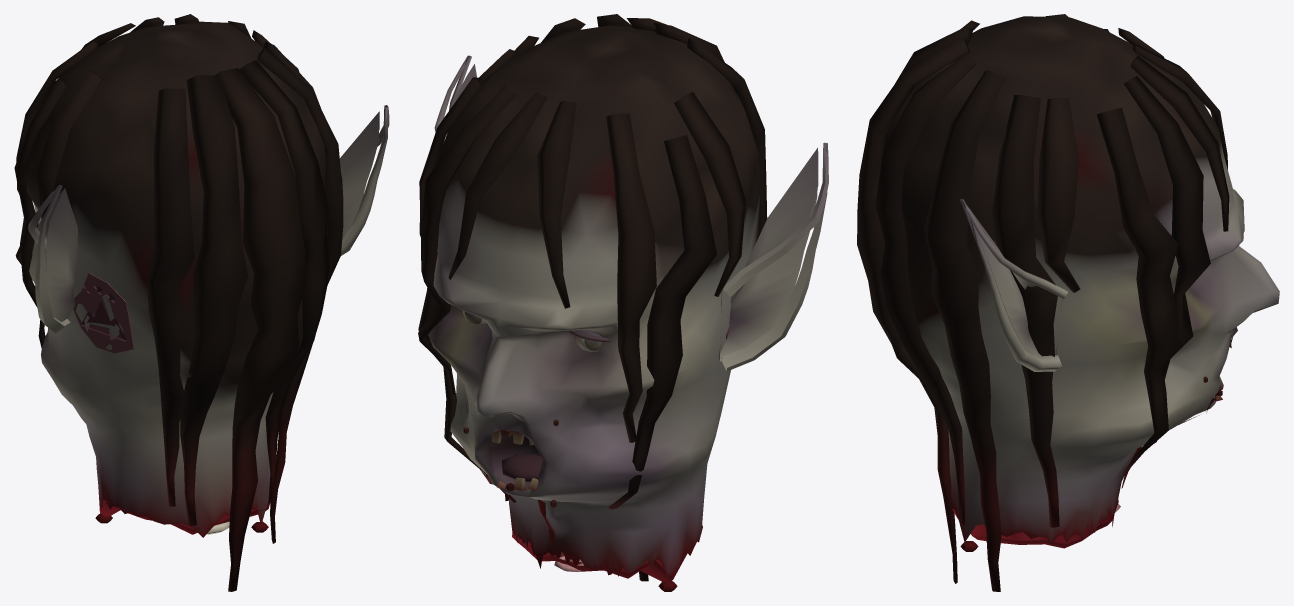
Rendered from head_severed.glb.
3 views of the same model, side by side, from view 1: azimuth 30°, elevation 25°; view 2: azimuth 150°, elevation 25°; view 3: azimuth 270°, elevation 25° (orthographic). The views are drawn at different scales.
Parts seen in each view (by area): view 1: head_severed; view 2: head_severed; view 3: head_severed.
Part boxes in pixels (x1,y1,x2,y2): head_severed: [14, 14, 389, 591]; head_severed: [418, 14, 828, 591]; head_severed: [857, 14, 1279, 591].
Size of what is drawn, in the model's own units: 0.21 by 0.3 by 0.21.
